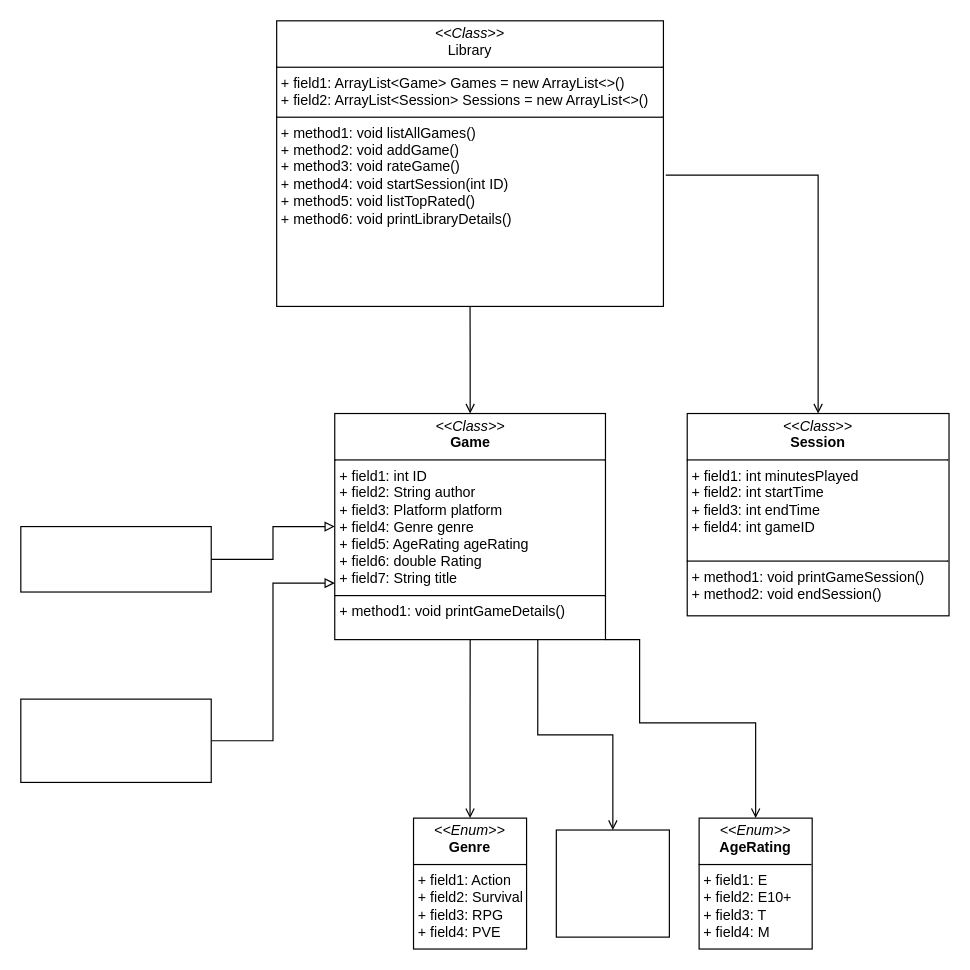
The diagram is 970 pixels wide and 970 high, and some of its shapes have lost their labels. Each missing label, with the centre of its shape:
<<Enum>> Platform + field1: Console + field2: PC + field3: Mobile: point 612,883
MultiPlayer field1 = int maxPlayer field2 = String serverName: point 115,740
SinglePlayer field1 = hoursToFinish: point 115,558
